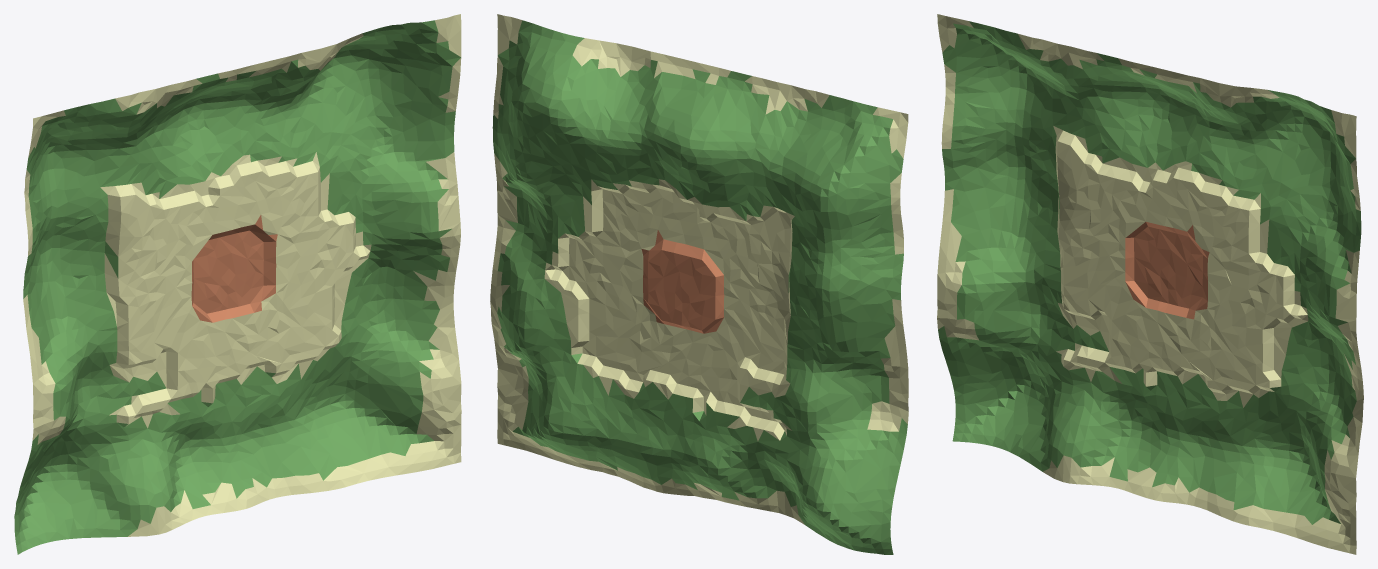
File: MoatMapTextured.fbx
The picture shows the model from 3 angles, left to right: view 1: azimuth 30°, elevation 25°; view 2: azimuth 150°, elevation 25°; view 3: azimuth 330°, elevation 25°; orthographic projection. The views are drawn at different scales.
Visible parts, largest first — view 1: Plane; view 2: Plane; view 3: Plane.
Part boxes in pixels (x1=…): Plane: x1=14, y1=14, x2=461, y2=554; Plane: x1=490, y1=14, x2=908, y2=554; Plane: x1=937, y1=14, x2=1363, y2=554.
Bounding box in the file's own units: 6018 × 6021 × 985.
